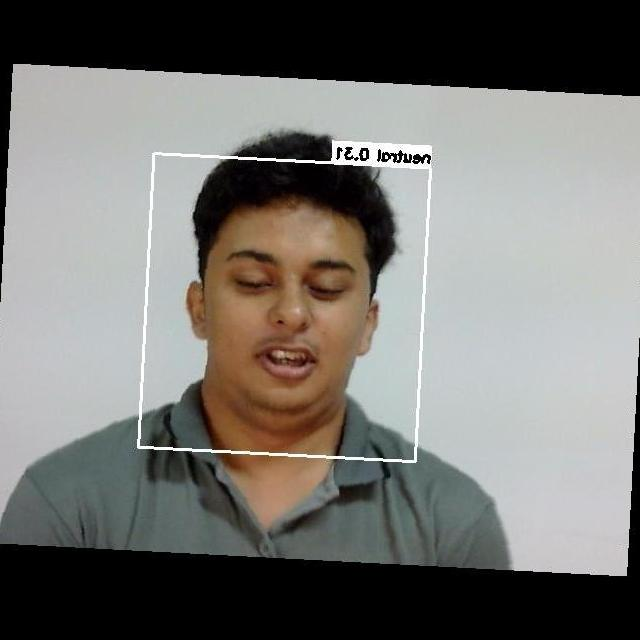Fear: (203, 225, 365, 403)
